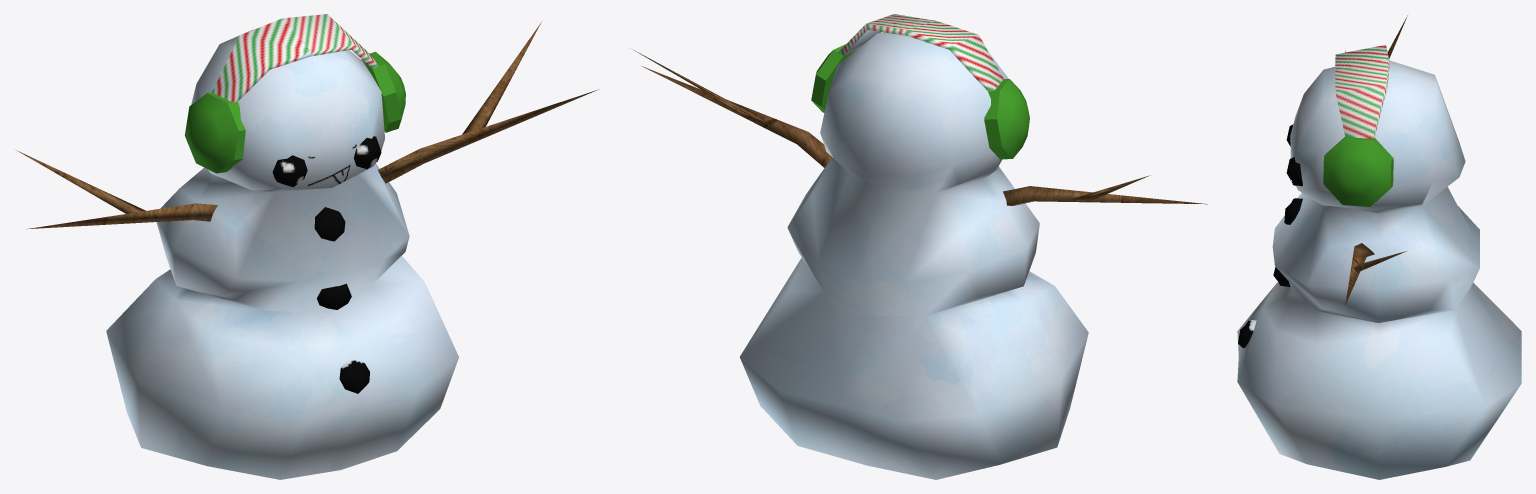
The model's file is Snowman_camika.fbx.
3 views of the same model, side by side, from view 1: azimuth 30°, elevation 25°; view 2: azimuth 150°, elevation 25°; view 3: azimuth 270°, elevation 25° (orthographic). The views are drawn at different scales.
Visible parts, largest first — view 1: polySurface27, polySurface57, polySurface34, polySurface37, polySurface35, polySurface36, polySurface62, polySurface26, polySurface24, polySurface25, polySurface63; view 2: polySurface27, polySurface57, polySurface34, polySurface37; view 3: polySurface27, polySurface57, polySurface34, polySurface63, polySurface24, polySurface26.
Boxes of the visible parts, <box> form: polySurface27: <box>106,29,458,479</box>; polySurface57: <box>184,14,405,173</box>; polySurface34: <box>378,89,599,183</box>; polySurface37: <box>26,203,217,229</box>; polySurface35: <box>462,22,541,134</box>; polySurface36: <box>16,150,145,213</box>; polySurface62: <box>272,155,307,187</box>; polySurface26: <box>339,358,369,393</box>; polySurface24: <box>314,207,345,241</box>; polySurface25: <box>317,283,351,309</box>; polySurface63: <box>354,136,381,169</box>; polySurface27: <box>740,32,1088,479</box>; polySurface57: <box>811,14,1029,159</box>; polySurface34: <box>641,66,832,167</box>; polySurface37: <box>1003,186,1207,205</box>; polySurface27: <box>1237,60,1521,479</box>; polySurface57: <box>1323,45,1393,206</box>; polySurface34: <box>1345,243,1374,304</box>; polySurface63: <box>1286,157,1302,186</box>; polySurface24: <box>1284,198,1302,224</box>; polySurface26: <box>1238,320,1256,347</box>.
Bounding box in the file's own units: 77.93 × 54.06 × 36.33.
